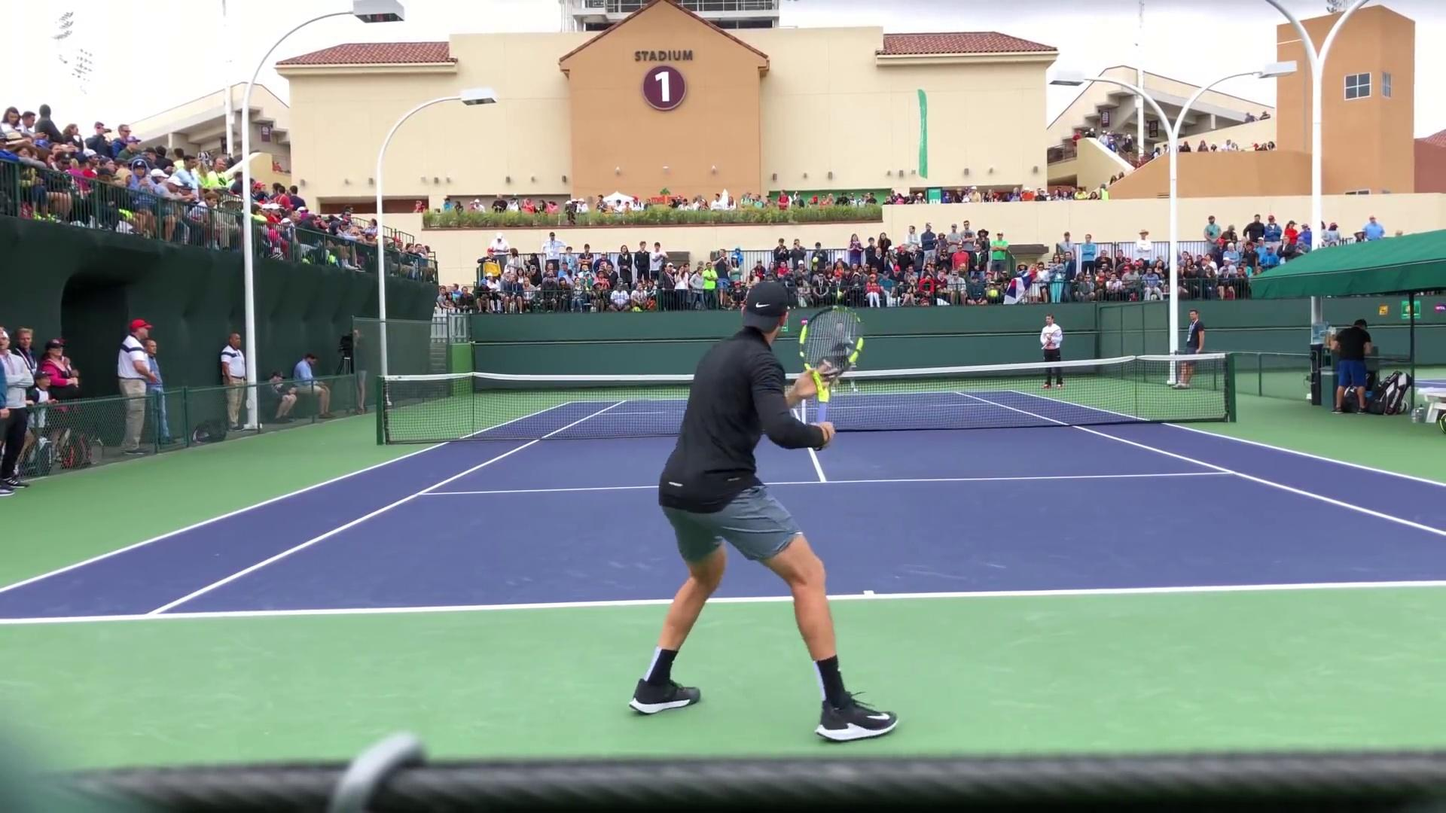ball: (812, 256, 818, 262)
